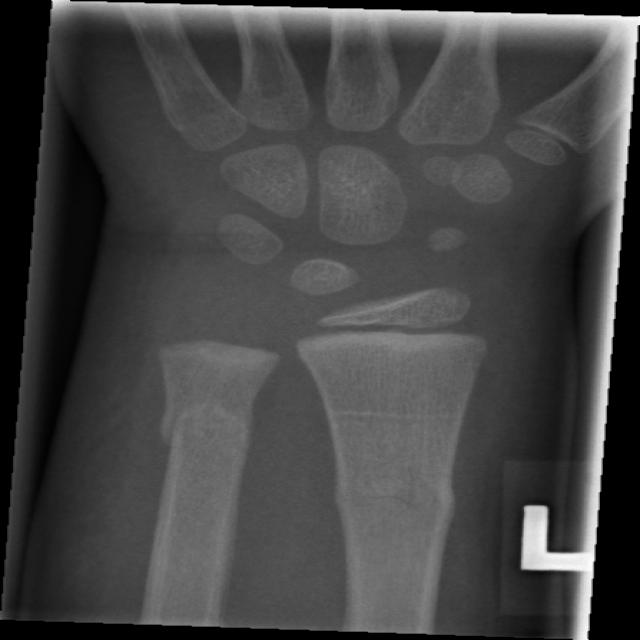radius fracture: (302, 444, 482, 544)
ulna fracture: (144, 377, 264, 528)
